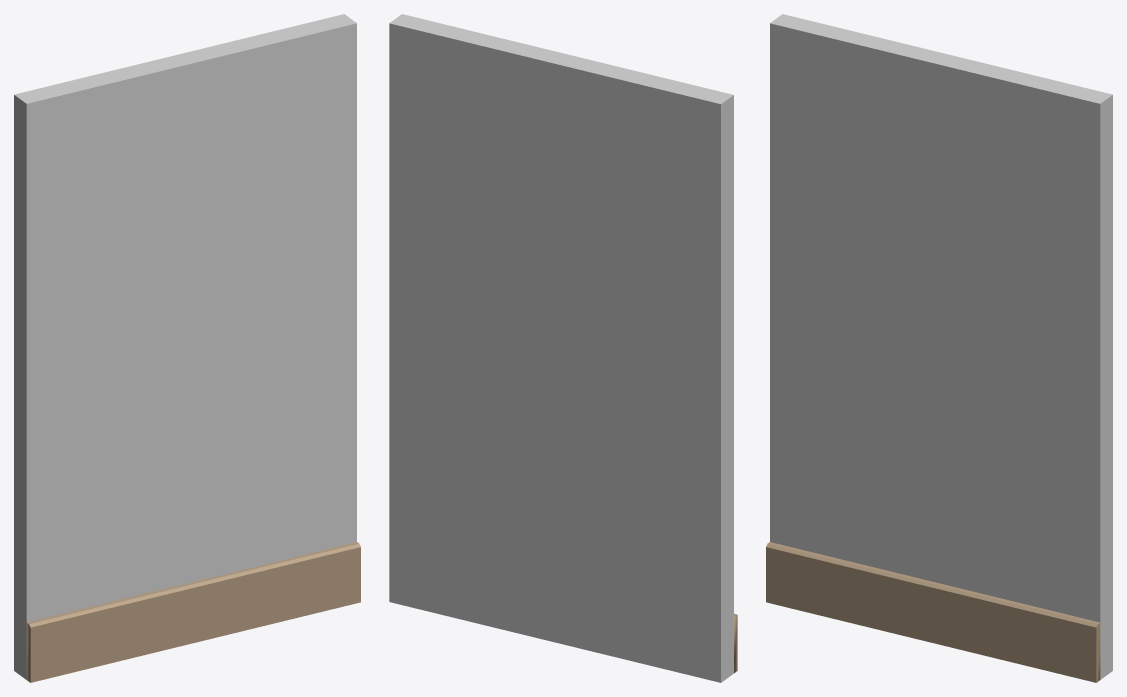
Rendered from House_Wall_Half.fbx.
3 renders of one model, left to right at view 1: azimuth 30°, elevation 25°; view 2: azimuth 150°, elevation 25°; view 3: azimuth 330°, elevation 25°, orthographic.
Parts seen in each view (by area): view 1: WallFloor2_01__6_.002; view 2: WallFloor2_01__6_.002; view 3: WallFloor2_01__6_.002.
Part boxes in pixels (<box>): WallFloor2_01__6_.002: <box>14,14,360,682</box>; WallFloor2_01__6_.002: <box>389,14,737,682</box>; WallFloor2_01__6_.002: <box>766,14,1112,682</box>.
Size of the model in its own units: 150 by 250 by 13.
